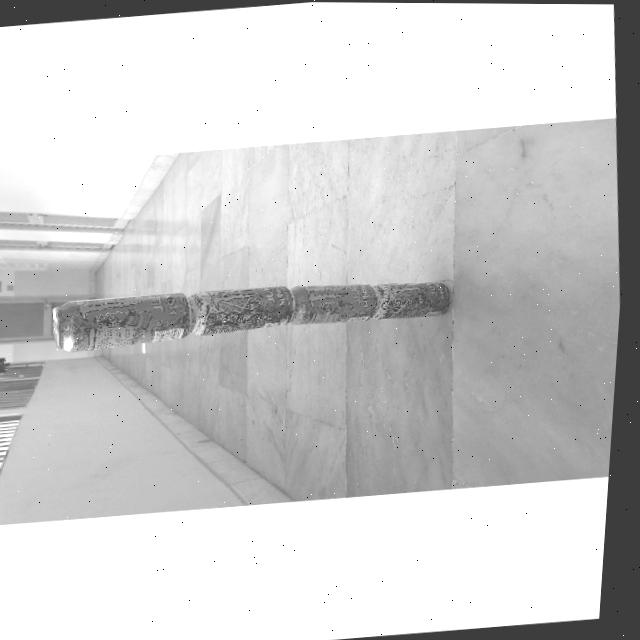Monster Aussie Lemonade: (191, 284, 296, 337), (375, 277, 457, 322)
Monster Mango Loco: (53, 292, 194, 353), (293, 282, 378, 326)
